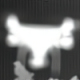plane: (2, 12, 80, 76)
